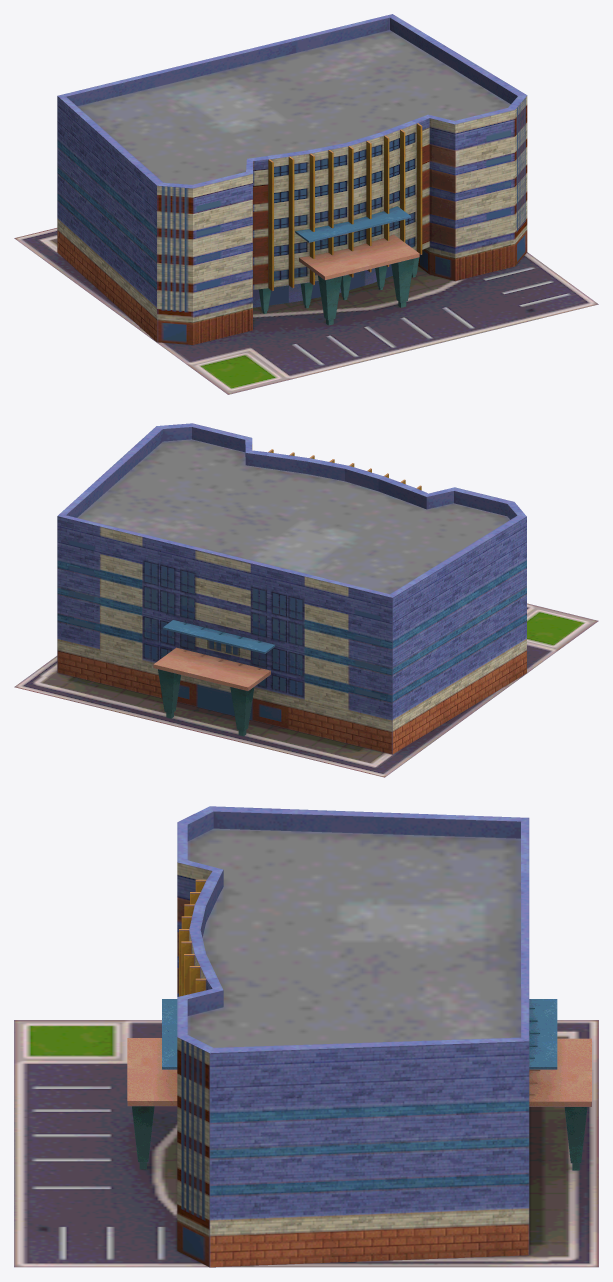
File: bangonglou.FBX
3 renders of one model, top to bottom at view 1: azimuth 30°, elevation 25°; view 2: azimuth 150°, elevation 25°; view 3: azimuth 270°, elevation 25°, orthographic. The views are drawn at different scales.
Visible parts, largest first — view 1: bangonglou; view 2: bangonglou; view 3: bangonglou.
Boxes of the visible parts, left/top/right/bottom form: bangonglou: left=14, top=14, right=598, bottom=394; bangonglou: left=14, top=423, right=598, bottom=777; bangonglou: left=14, top=806, right=598, bottom=1267.
Size of the model in its own units: 1667 by 676 by 1667.
1 material, 1 textured.
